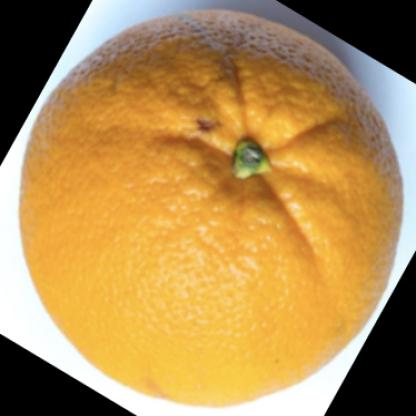fresh: (22, 8, 401, 405)
